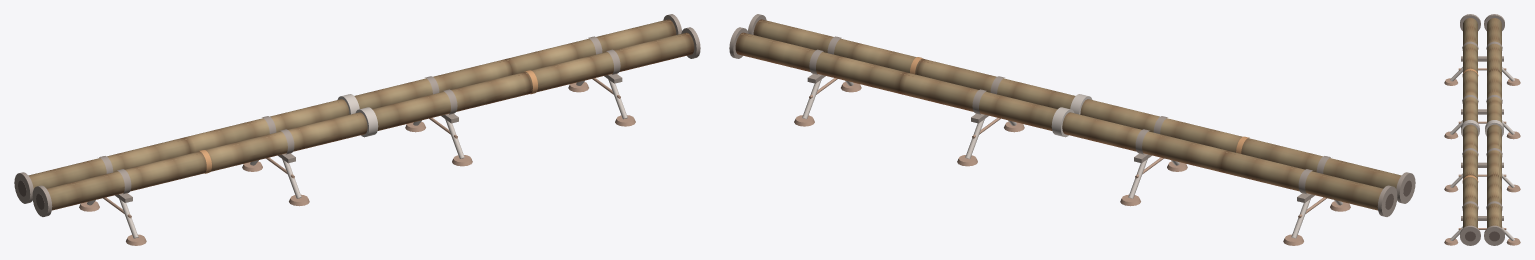
Rendered from E14_pipeline_straight_10m.glb.
3 views of the same model, side by side, from view 1: azimuth 30°, elevation 25°; view 2: azimuth 150°, elevation 25°; view 3: azimuth 270°, elevation 25° (orthographic). The views are drawn at different scales.
Parts seen in each view (by area): view 1: pipe (×2), end_flange (×2); view 2: pipe (×2), end_flange (×2); view 3: pipe (×2), end_flange (×4), footpad (×8), leg (×8), saddle_beam (×4), mid_coupling (×2), bore (×2).
Boxes of the visible parts, box(x1,y1,x2,y2) form: pipe (×2): box(28, 19, 694, 210); end_flange (×2): box(14, 172, 52, 216); pipe (×2): box(735, 19, 1401, 210); end_flange (×2): box(1377, 172, 1415, 216); pipe (×2): box(1463, 18, 1501, 228); end_flange (×4): box(1460, 14, 1504, 245); footpad (×8): box(1444, 78, 1520, 245); leg (×8): box(1450, 67, 1514, 240); saddle_beam (×4): box(1461, 56, 1503, 220); mid_coupling (×2): box(1461, 120, 1503, 136); bore (×2): box(1465, 231, 1499, 241).
Size of the model in its own units: 10 by 0.93 by 1.52.
Materials: 6 (1 with a texture image).
